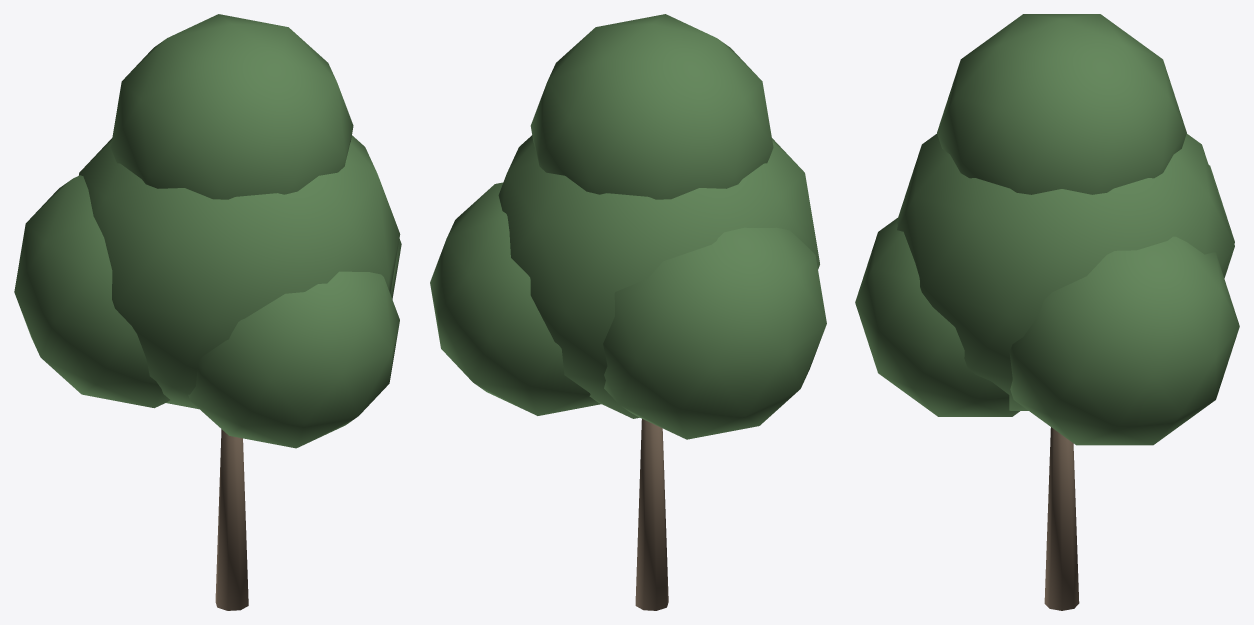
File: SM_Shelterbelt_Tree.fbx
The picture shows the model from 3 angles, left to right: view 1: azimuth 30°, elevation 25°; view 2: azimuth 150°, elevation 25°; view 3: azimuth 270°, elevation 25°; orthographic projection.
Parts seen in each view (by area): view 1: SM_Shelterbelt_Tree; view 2: SM_Shelterbelt_Tree; view 3: SM_Shelterbelt_Tree.
Part boxes in pixels (x1,y1,x2,y2): SM_Shelterbelt_Tree: (14,14,401,610); SM_Shelterbelt_Tree: (430,14,826,610); SM_Shelterbelt_Tree: (855,14,1239,610).
Bounding box in the file's own units: 8.54 × 8 × 13.4.
